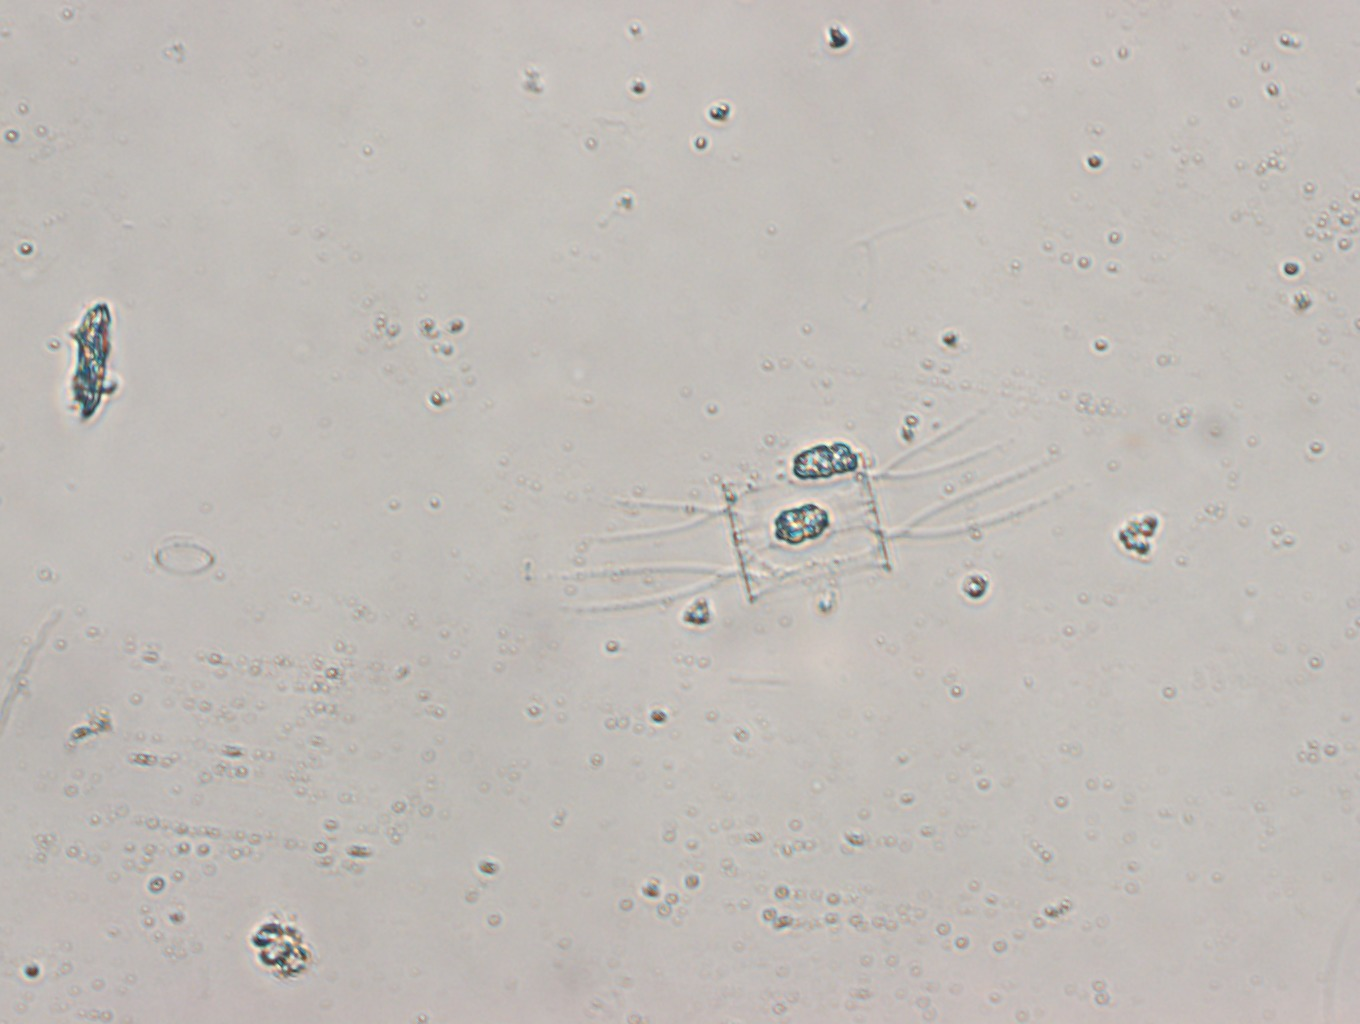chaetoceros: (562, 393, 1062, 615)
